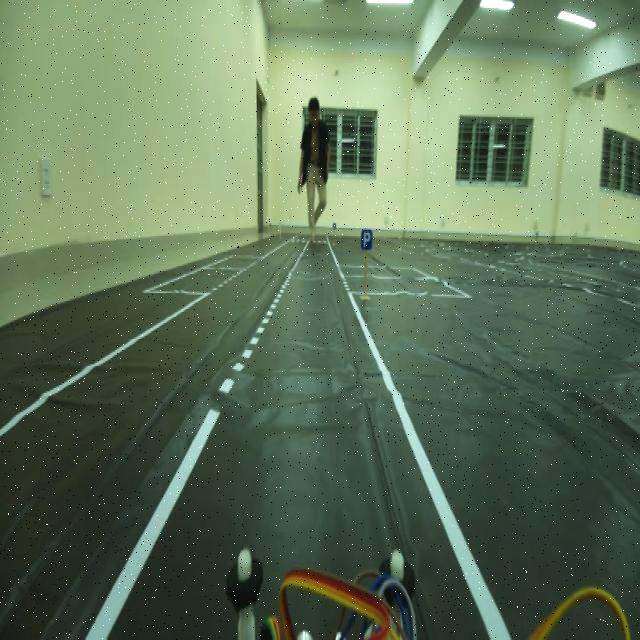parking: (358, 219, 374, 258)
